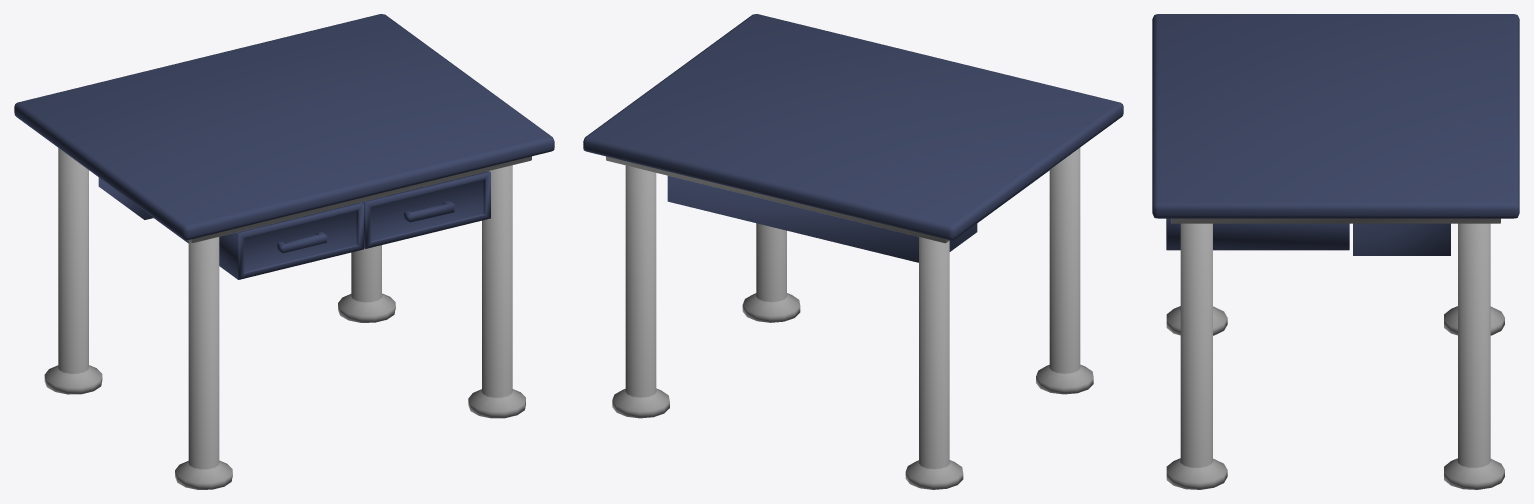
The model's file is DebrisTableDrawers.fbx.
3 views of the same model, side by side, from view 1: azimuth 30°, elevation 25°; view 2: azimuth 150°, elevation 25°; view 3: azimuth 270°, elevation 25° (orthographic). The views are drawn at different scales.
Parts seen in each view (by area): view 1: Circle, Circle.001; view 2: Circle; view 3: Circle, Circle.001.
Boxes of the visible parts, x1,y1,x2,y2 form: Circle: [14, 14, 554, 489]; Circle.001: [153, 171, 490, 279]; Circle: [583, 14, 1123, 489]; Circle: [1152, 14, 1519, 489]; Circle.001: [1166, 218, 1349, 250].
Size of the model in its own units: 267 by 189 by 215.
